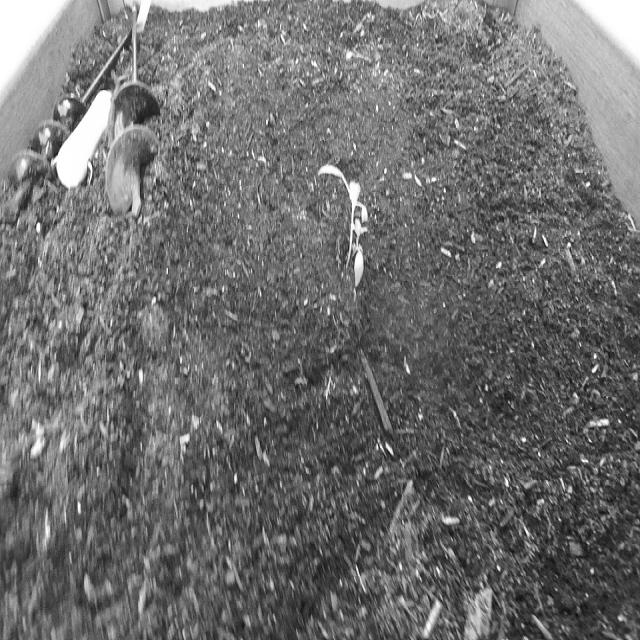Healthy: (312, 144, 376, 312)
